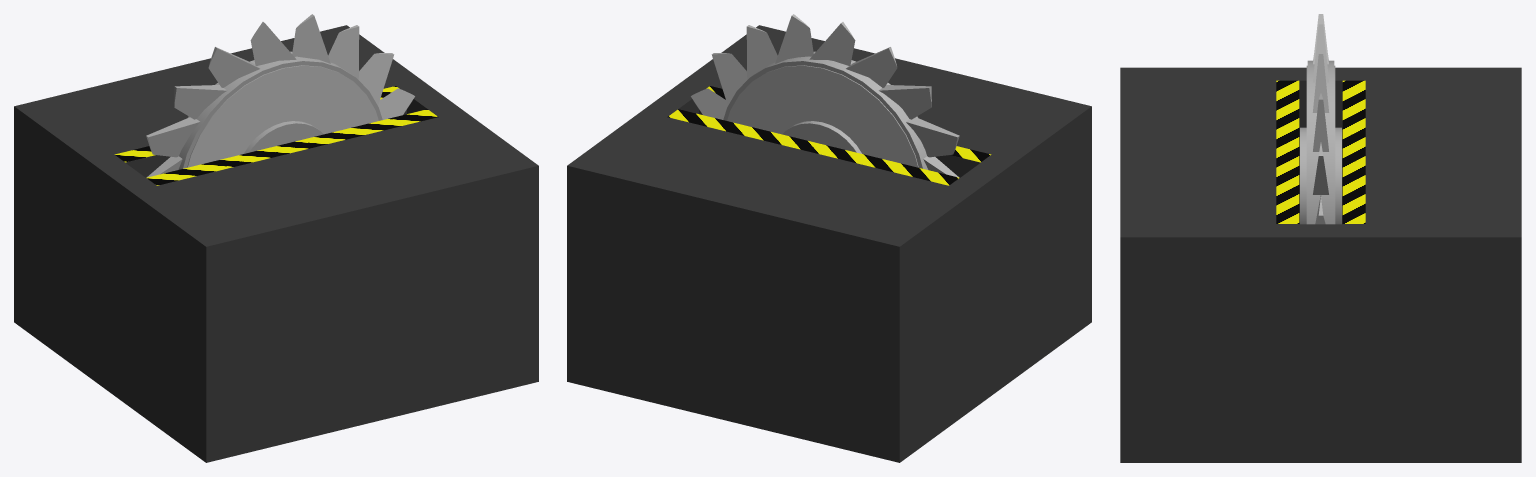
Rendered from static_saw.fbx.
3 views of the same model, side by side, from view 1: azimuth 30°, elevation 25°; view 2: azimuth 150°, elevation 25°; view 3: azimuth 270°, elevation 25° (orthographic). The views are drawn at different scales.
Visible parts, largest first — view 1: static_blade_box; view 2: static_blade_box; view 3: static_blade_box.
Part boxes in pixels (bbox=[...]): static_blade_box: bbox=[14, 14, 538, 462]; static_blade_box: bbox=[567, 14, 1091, 462]; static_blade_box: bbox=[1120, 14, 1521, 462].
Bounding box in the file's own units: 244 × 234 × 244.
